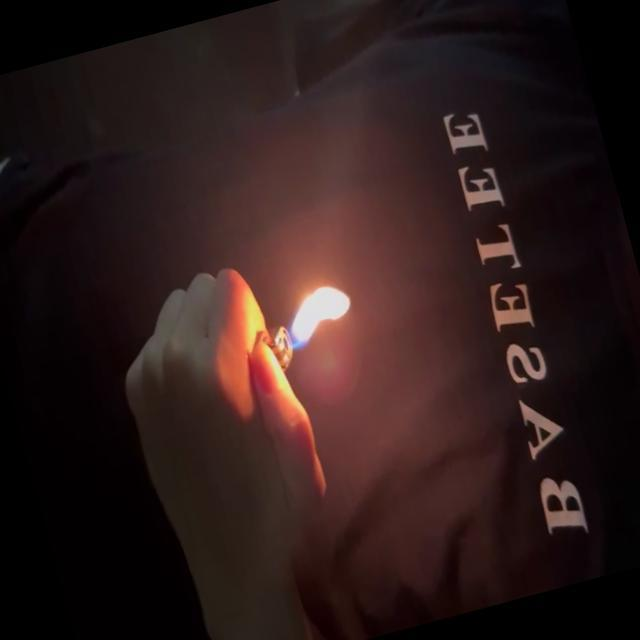Fire: (272, 278, 361, 356)
